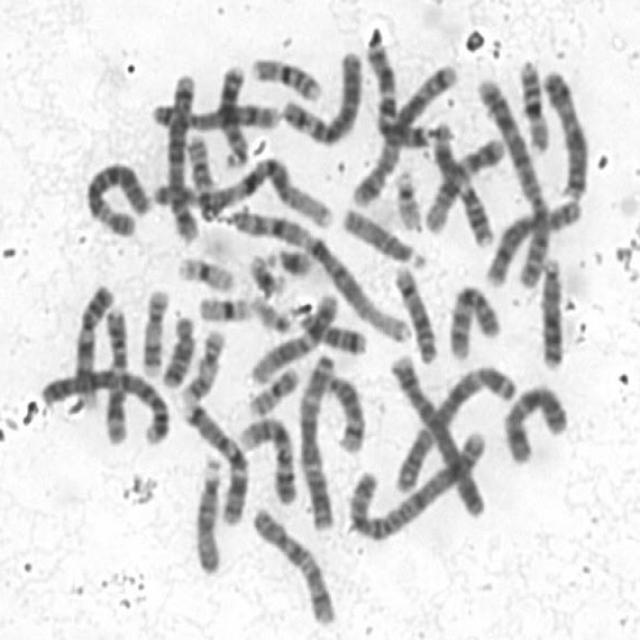A1: (222, 197, 411, 344), (148, 146, 336, 234)
A2: (470, 70, 557, 292), (342, 422, 488, 543)
A3: (391, 363, 518, 494), (293, 347, 340, 533)
B4: (383, 348, 489, 522), (34, 360, 173, 447)
B5: (347, 58, 460, 210), (163, 64, 202, 244)
C10: (248, 502, 338, 628), (445, 278, 505, 362)
C11: (424, 122, 500, 248), (100, 301, 131, 448)
C12: (245, 285, 340, 388), (422, 128, 509, 236)
C6: (277, 45, 364, 146), (81, 155, 154, 239)
C7: (176, 393, 252, 530), (362, 29, 439, 148)
C8: (482, 195, 586, 289), (142, 96, 282, 134)
C9: (232, 412, 298, 508), (68, 276, 114, 413)
D13: (534, 252, 570, 374), (215, 58, 252, 169)
D14: (387, 259, 439, 365), (320, 365, 368, 455)
D15: (336, 201, 426, 271), (190, 451, 227, 577)
E16: (513, 54, 553, 156), (247, 52, 325, 104)
E17: (176, 322, 228, 406), (137, 280, 172, 377)
E18: (291, 306, 367, 356), (156, 309, 198, 389)
F19: (171, 250, 237, 294), (194, 289, 256, 323)
F20: (244, 360, 302, 419), (183, 134, 216, 191)
G21: (244, 250, 288, 297), (268, 239, 316, 279)
G22: (390, 164, 426, 233), (246, 289, 296, 335)
X: (539, 63, 593, 202), (498, 380, 572, 466)
